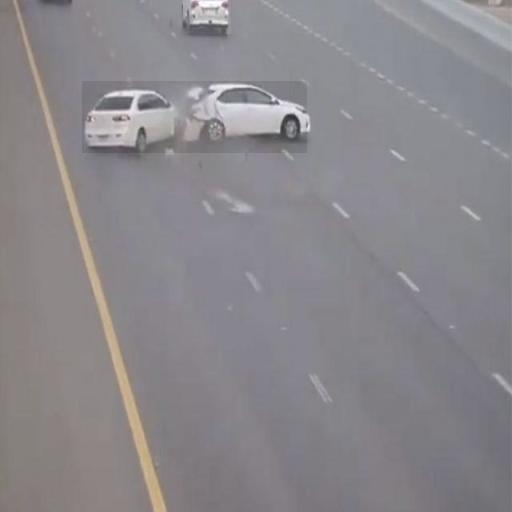小汽车: (184, 2, 232, 34)
小汽车撞小汽车: (82, 81, 307, 153)
